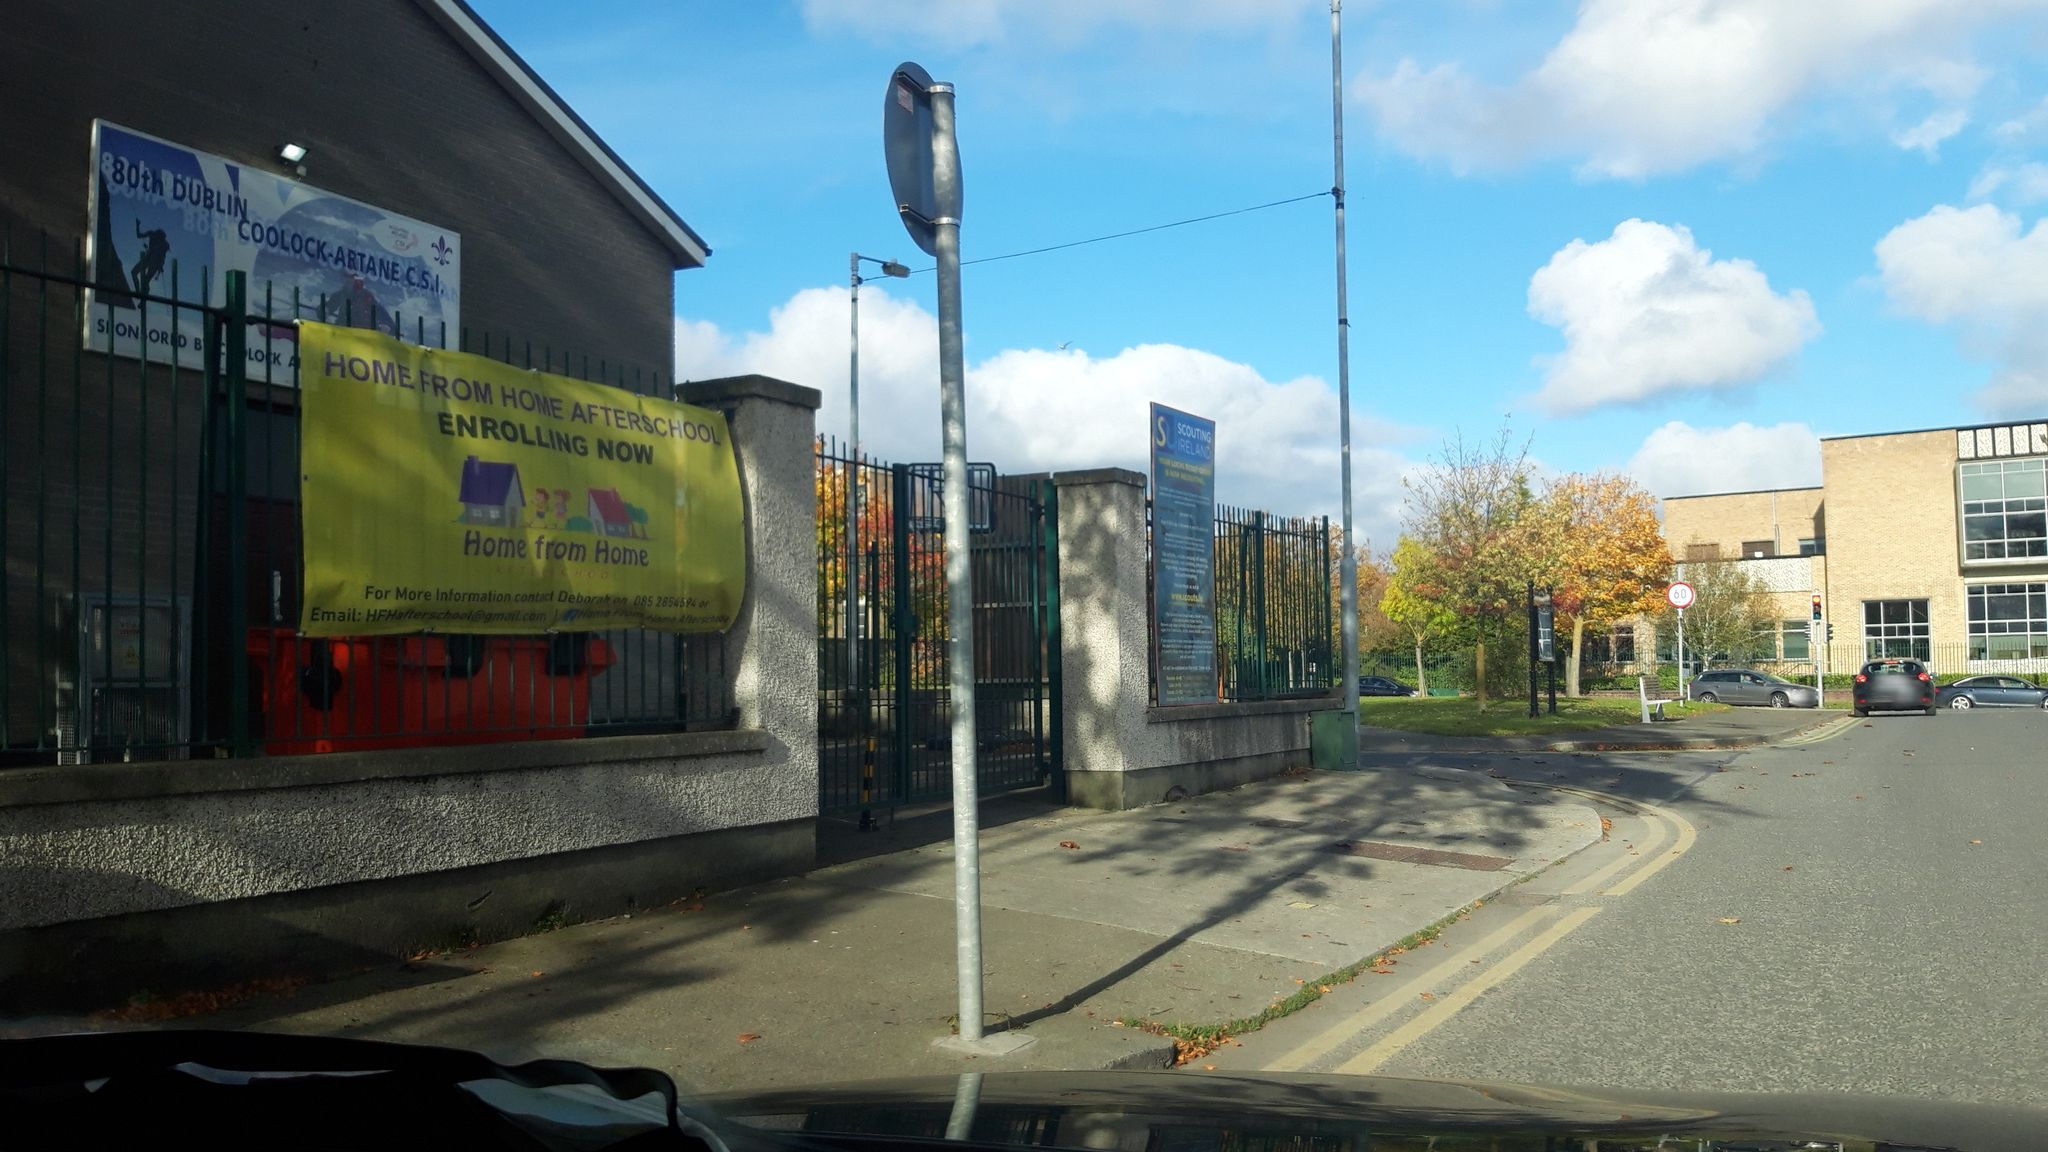vinyl banner: (270, 300, 788, 679)
